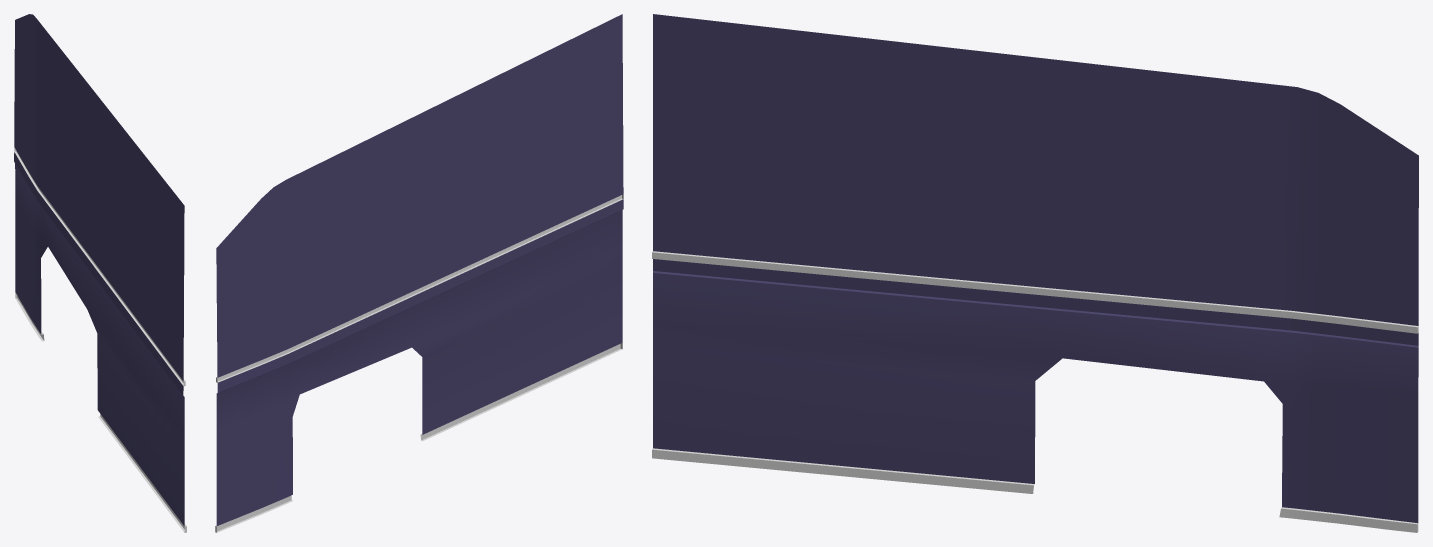
File: Mh_Wall_02_L.fbx
3 views of the same model, side by side, from view 1: azimuth 30°, elevation 25°; view 2: azimuth 150°, elevation 25°; view 3: azimuth 270°, elevation 25° (orthographic). The views are drawn at different scales.
Visible parts, largest first — view 1: Mh_Wall_02_L; view 2: Mh_Wall_02_L; view 3: Mh_Wall_02_L.
Boxes of the visible parts, bbox=[...] form: Mh_Wall_02_L: bbox=[14, 14, 186, 532]; Mh_Wall_02_L: bbox=[215, 14, 623, 532]; Mh_Wall_02_L: bbox=[652, 14, 1418, 532].
Bounding box in the file's own units: 371 × 998 × 1566.
